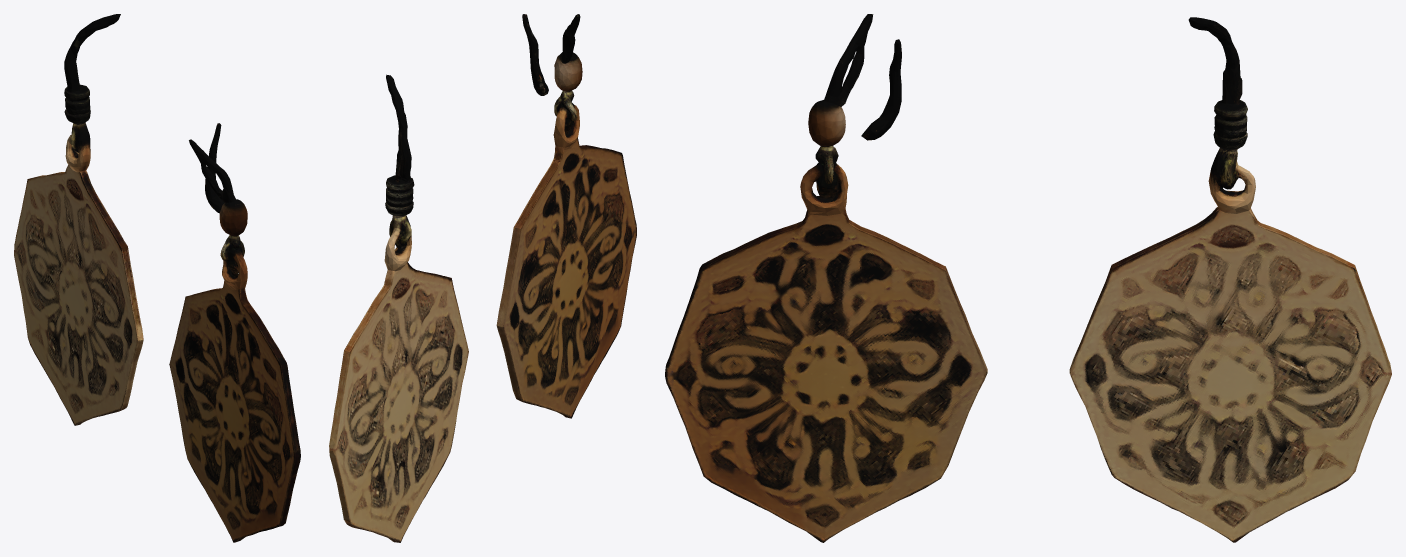
Rendered from wooden-earrings-vintage.jpeg.glb.
3 renders of one model, left to right at view 1: azimuth 30°, elevation 25°; view 2: azimuth 150°, elevation 25°; view 3: azimuth 270°, elevation 25°, orthographic. The views are drawn at different scales.
Parts seen in each view (by area): view 1: world; view 2: world; view 3: world.
Boxes of the visible parts, x1,y1,x2,y2 form: world: (14,14,300,542); world: (329,14,636,542); world: (665,14,1391,542).
Size of the model in its own units: 0.1146 by 0.8196 by 1.
Materials: 1 (1 with a texture image).
